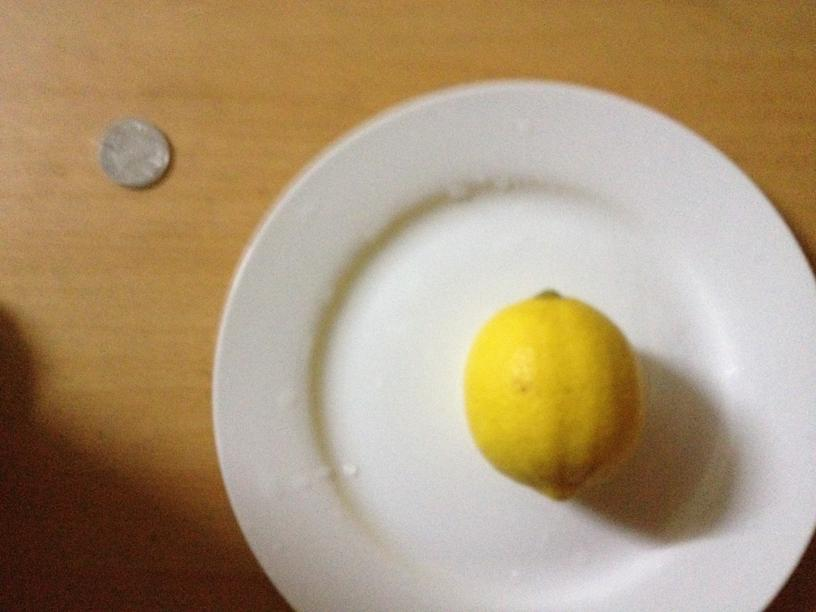coin: (99, 123, 171, 189)
lemon: (469, 288, 641, 499)
